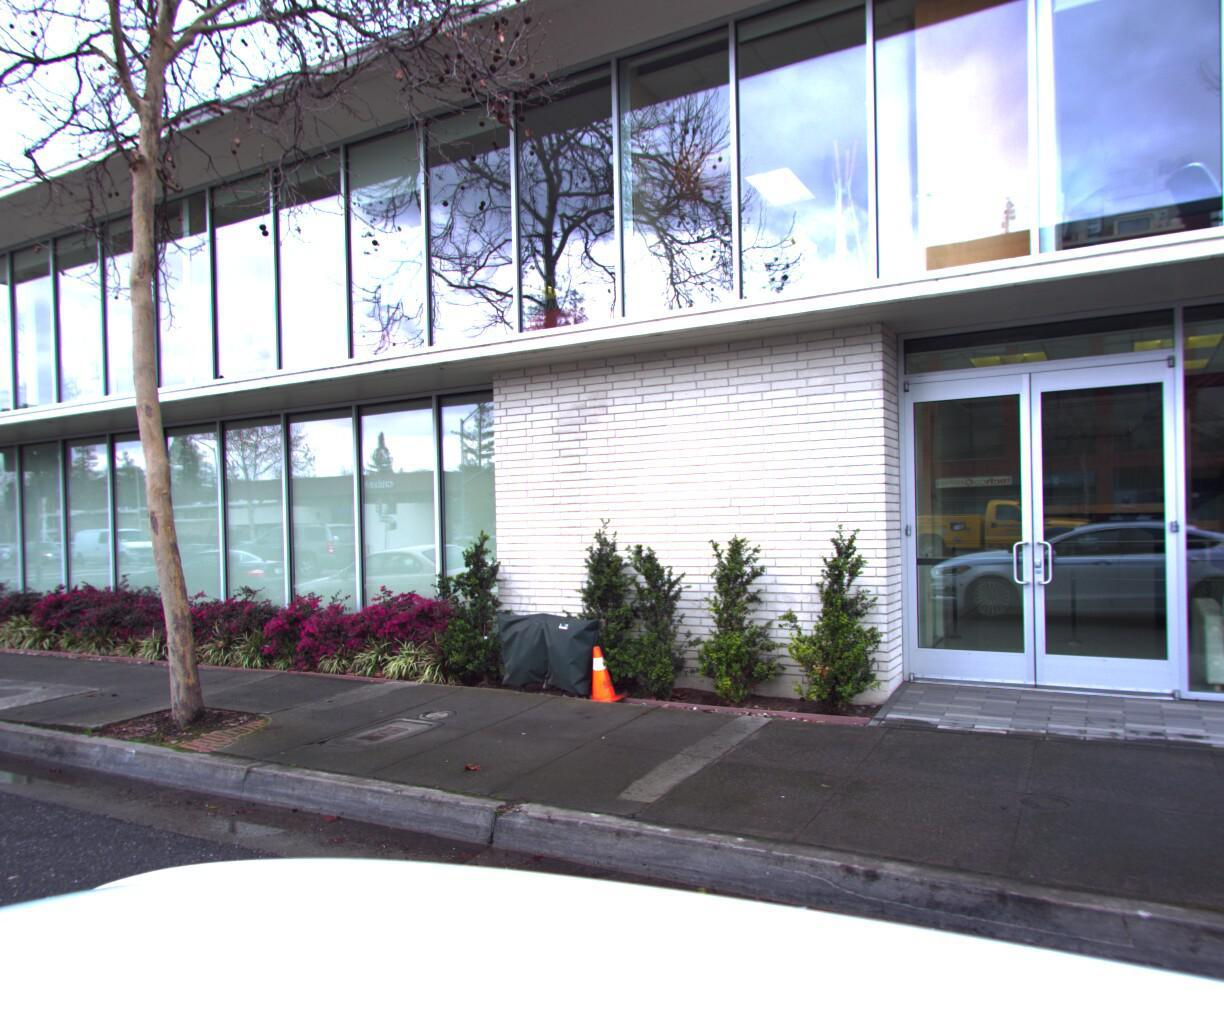car: (0, 545, 66, 614), (0, 545, 6, 612)
